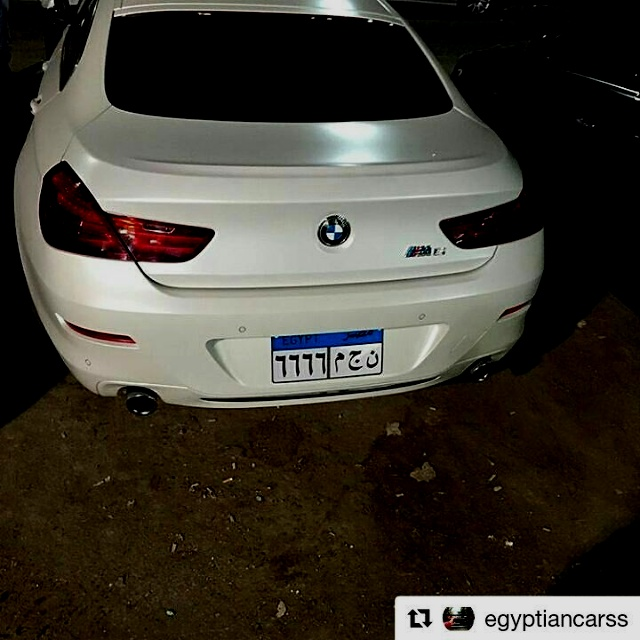License Plate: (268, 324, 386, 386)
